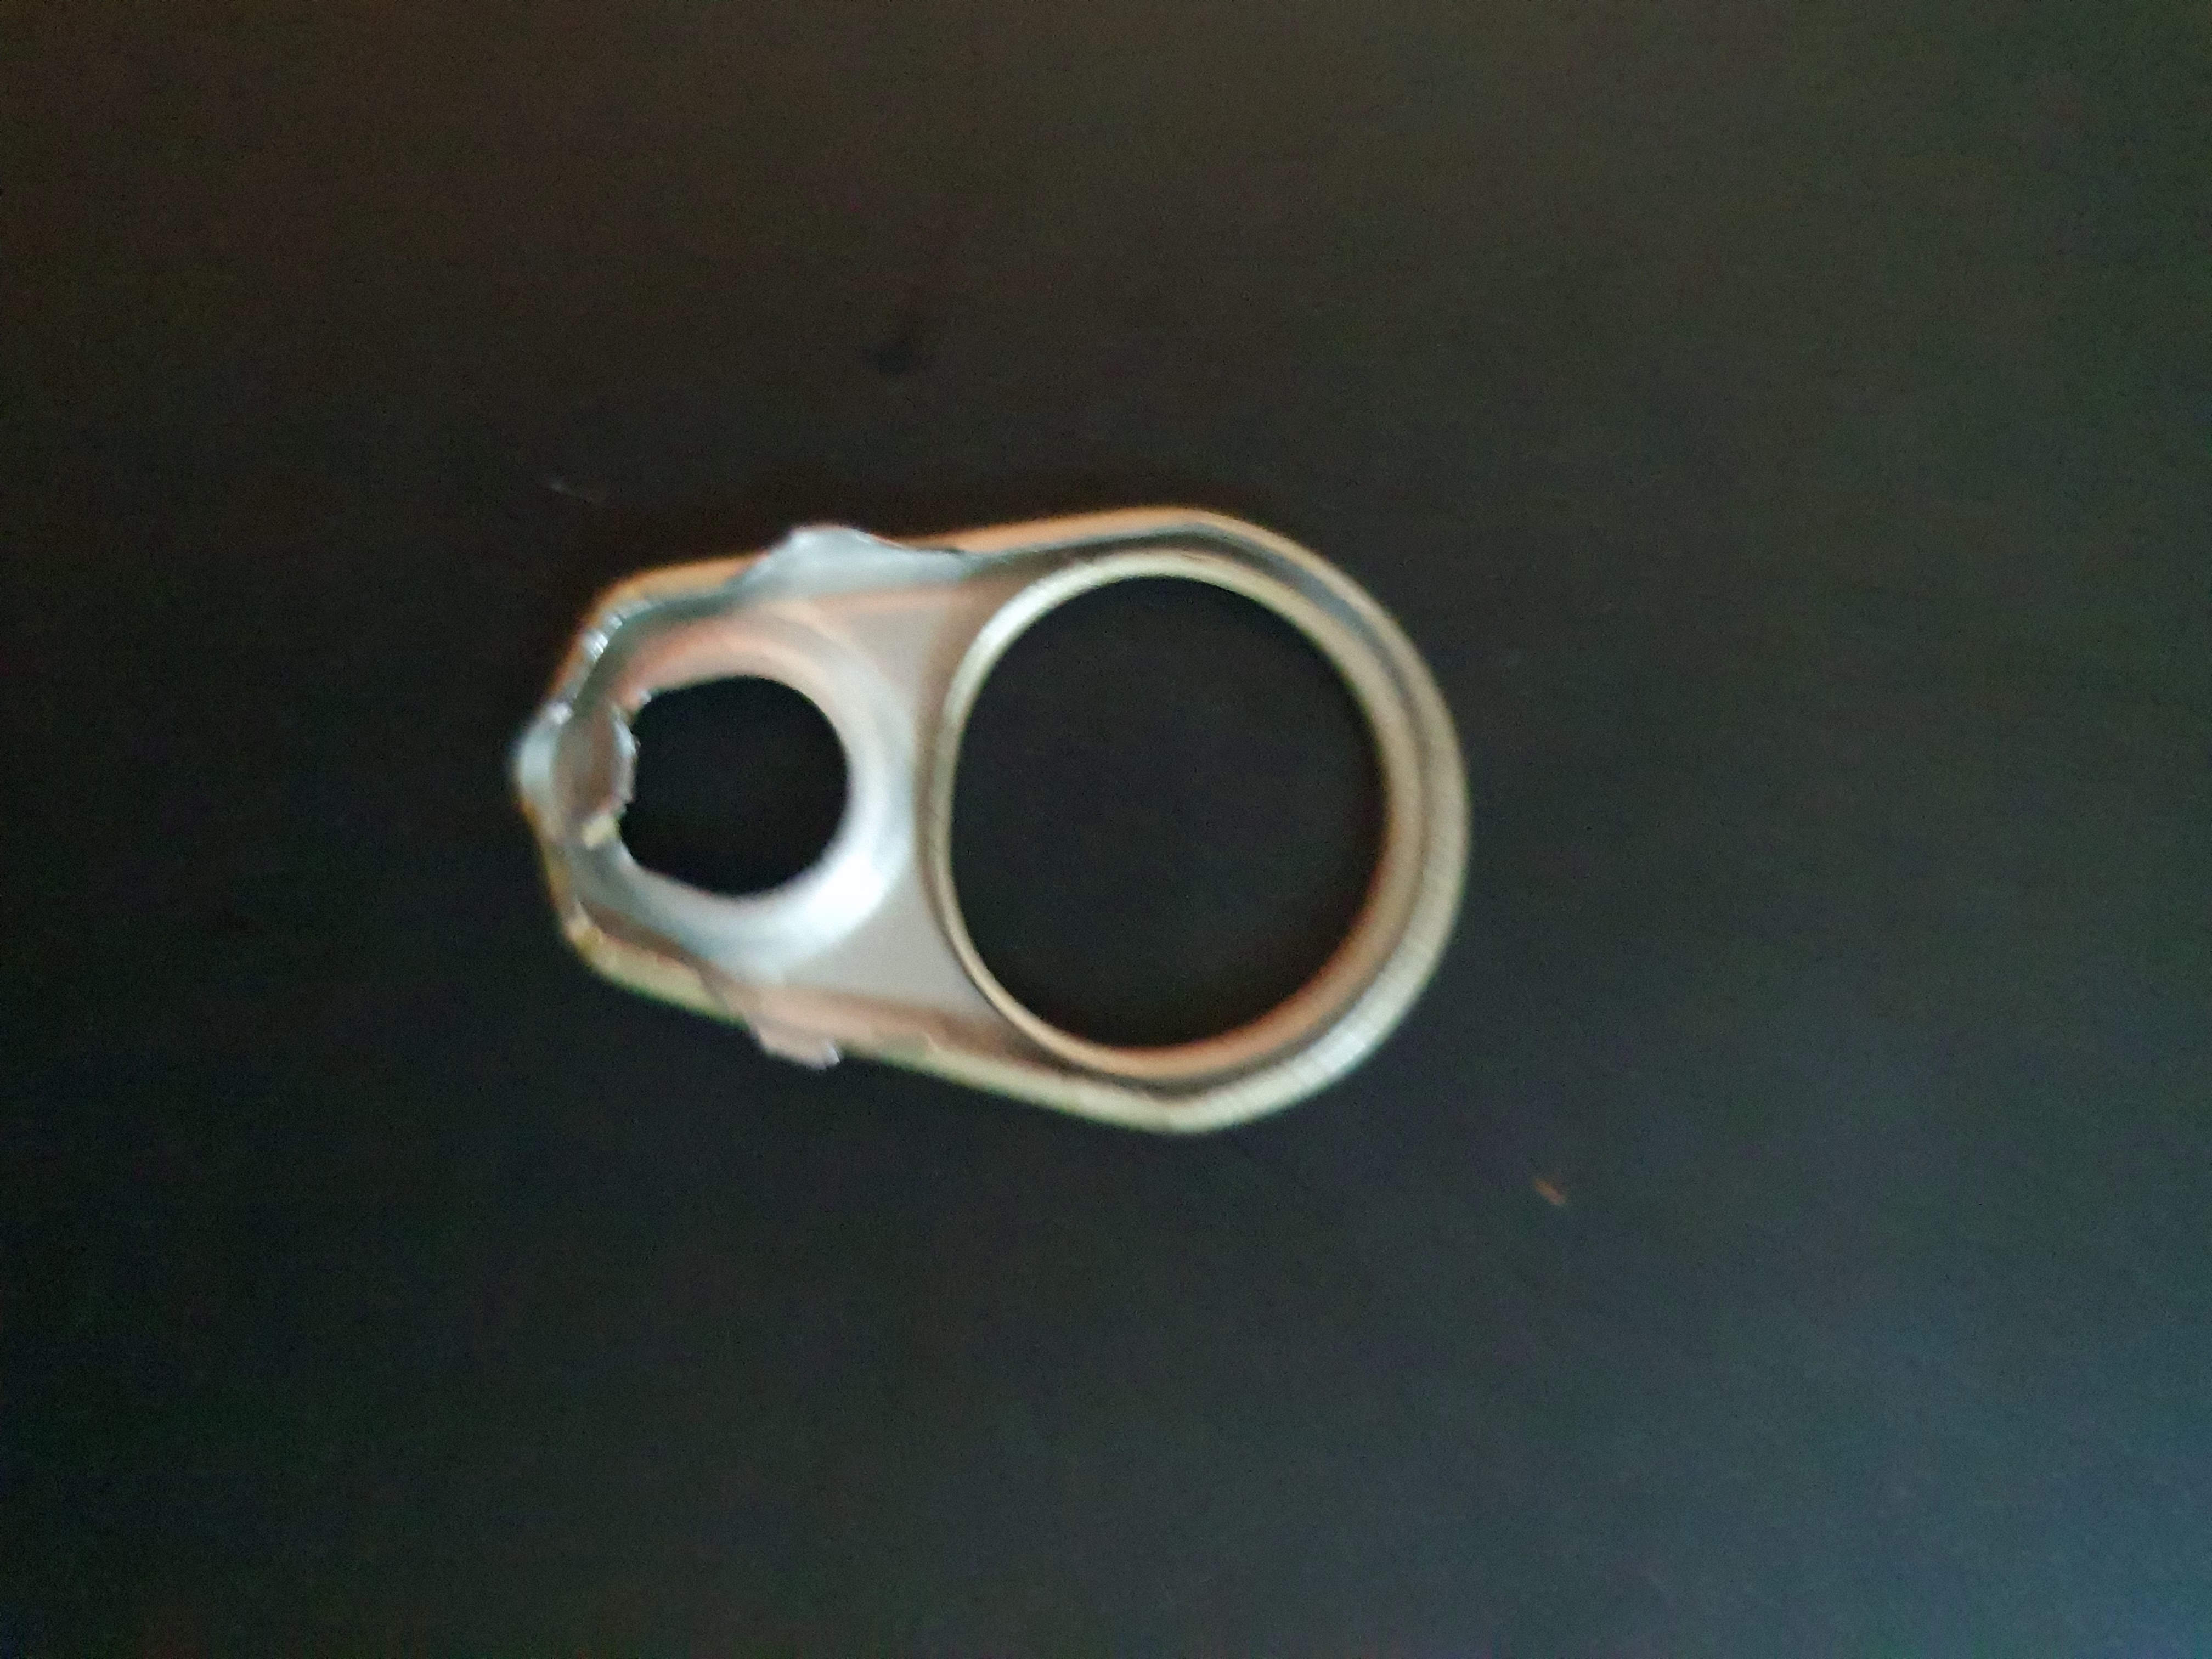metal: (470, 467, 1491, 1183)
